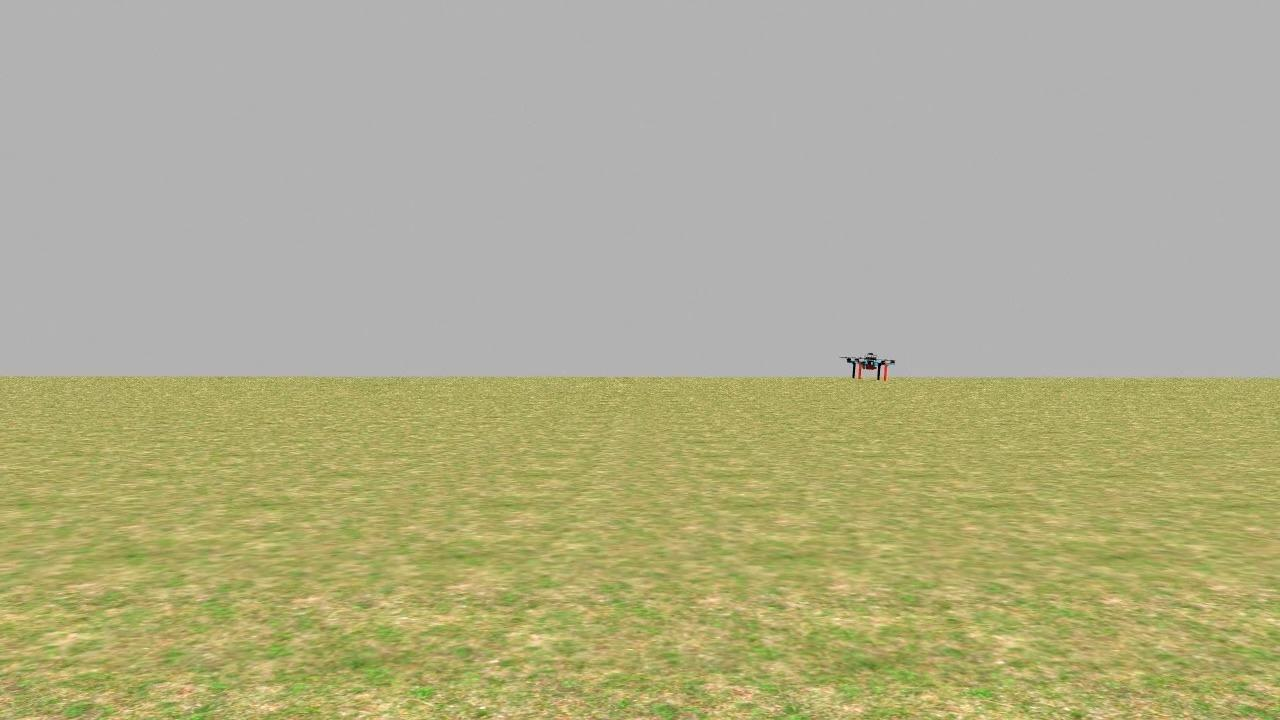UAV: (834, 343, 910, 390)
